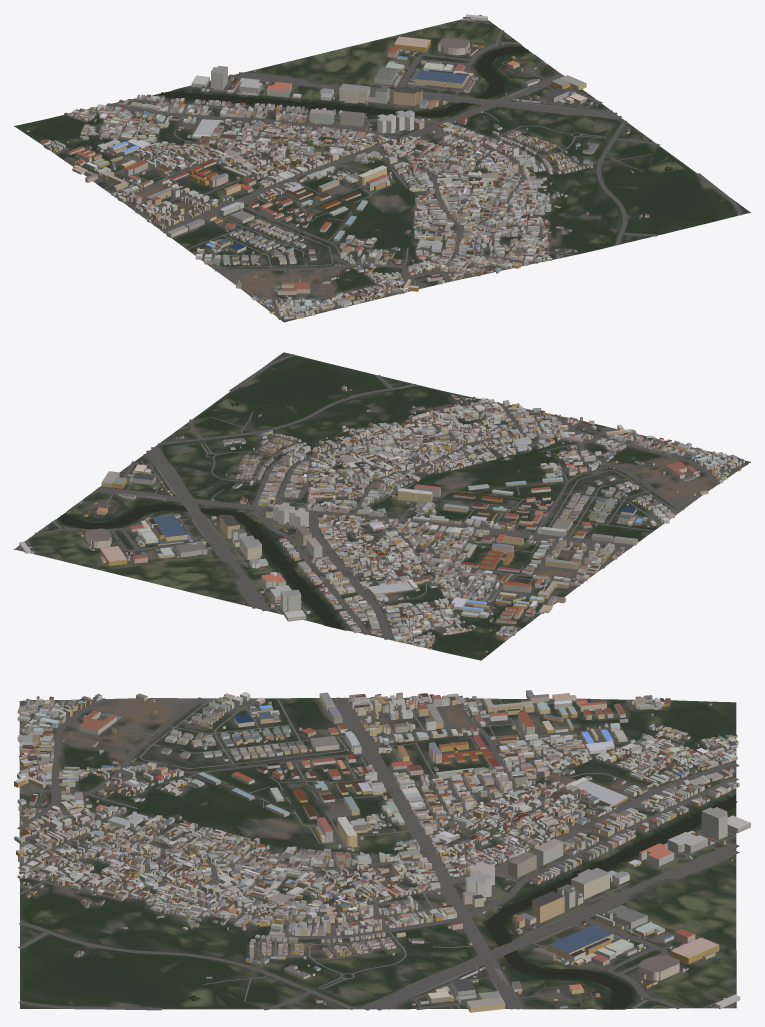
3 renders of one model, top to bottom at view 1: azimuth 30°, elevation 25°; view 2: azimuth 150°, elevation 25°; view 3: azimuth 270°, elevation 25°, orthographic. The views are drawn at different scales.
Visible parts, largest first — view 1: ground, buildings, roads, water; view 2: ground, buildings, roads, water; view 3: ground, buildings, roads, water.
Boxes of the visible parts, <box> form: ground: <box>14,15,750,322</box>; buildings: <box>27,14,649,319</box>; roads: <box>55,20,741,319</box>; water: <box>152,46,673,170</box>; ground: <box>14,352,750,660</box>; buildings: <box>19,385,744,652</box>; roads: <box>25,354,748,647</box>; water: <box>57,403,344,629</box>; ground: <box>19,698,736,1009</box>; buildings: <box>14,690,750,1012</box>; roads: <box>17,697,739,1010</box>; water: <box>188,794,737,1009</box>.
Size of the model in its own units: 1433 by 52.39 by 1440.
